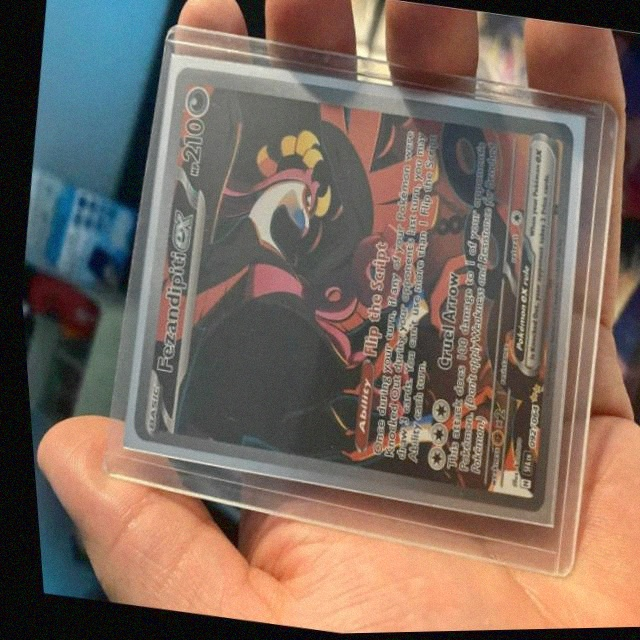card: (126, 65, 574, 516)
